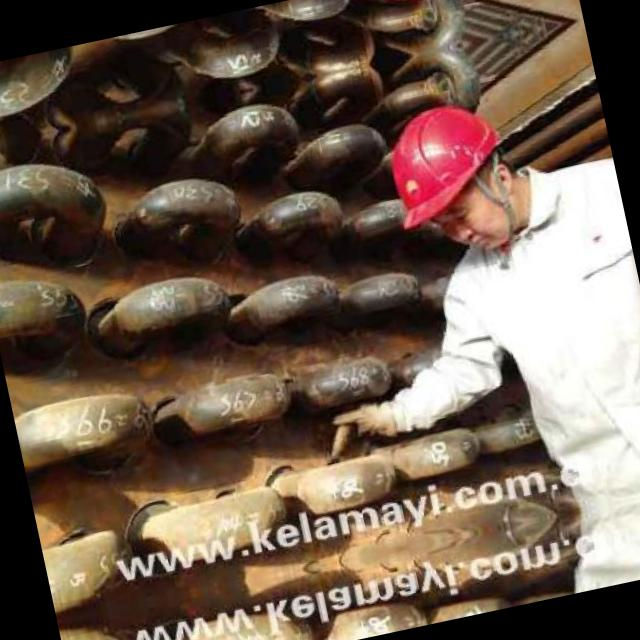helmet: (362, 78, 542, 276), (335, 0, 489, 26)
